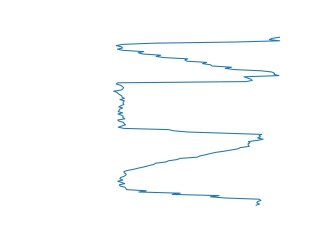distributaryChannelFill: (108, 73, 267, 143)
mouthBar: (112, 35, 284, 77)
underwaterDistributaryChannel: (114, 140, 265, 208)
